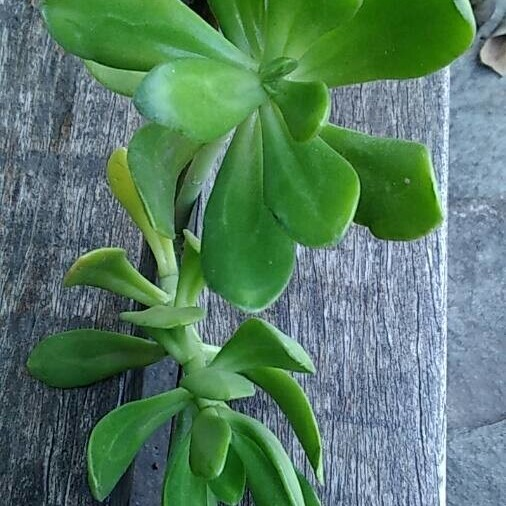obstacle: (48, 3, 465, 497)
